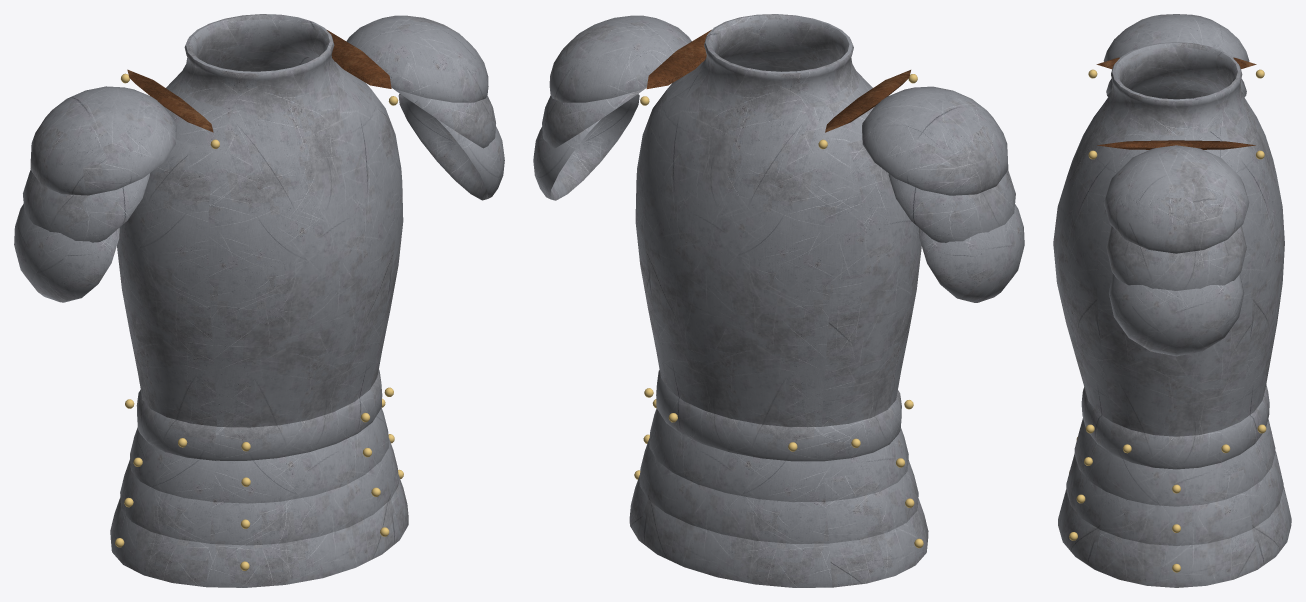
Rendered from armor_body.glb.
3 renders of one model, left to right at view 1: azimuth 30°, elevation 25°; view 2: azimuth 150°, elevation 25°; view 3: azimuth 270°, elevation 25°, orthographic. The views are drawn at different scales.
Visible parts, largest first — view 1: ArmorBody; view 2: ArmorBody; view 3: ArmorBody.
Part boxes in pixels (<box>): ArmorBody: <box>14,14,504,587</box>; ArmorBody: <box>533,14,1024,587</box>; ArmorBody: <box>1053,14,1291,587</box>.
Bounding box in the file's own units: 0.7101 × 0.7079 × 0.3364.
3 materials, 2 textured.
